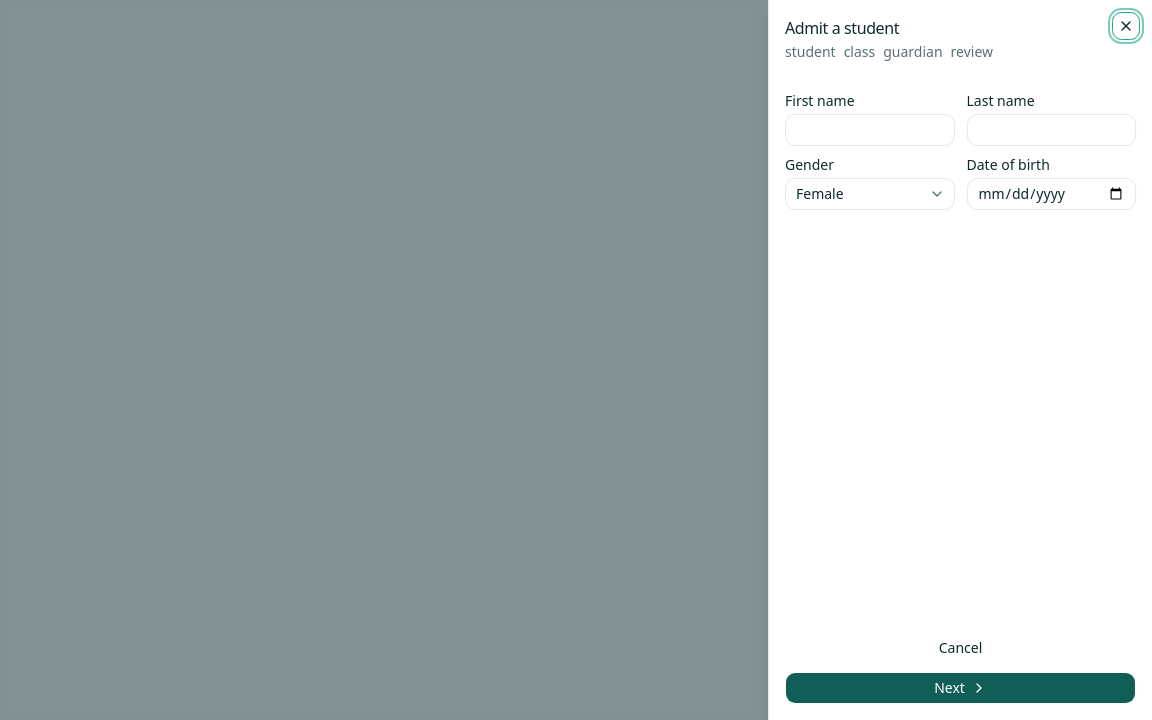
AdmitStudentSheet step 1 › refuses blanks with the server copy and does not advance
Expected: the field labelled "First name" is shown, top-left (785, 114), bottom-right (954, 146)
What coordinates should you click on to do the following:
click the button "Next"
I would click on:
 (960, 688)
Its box is top-left (785, 672), bottom-right (1136, 704).
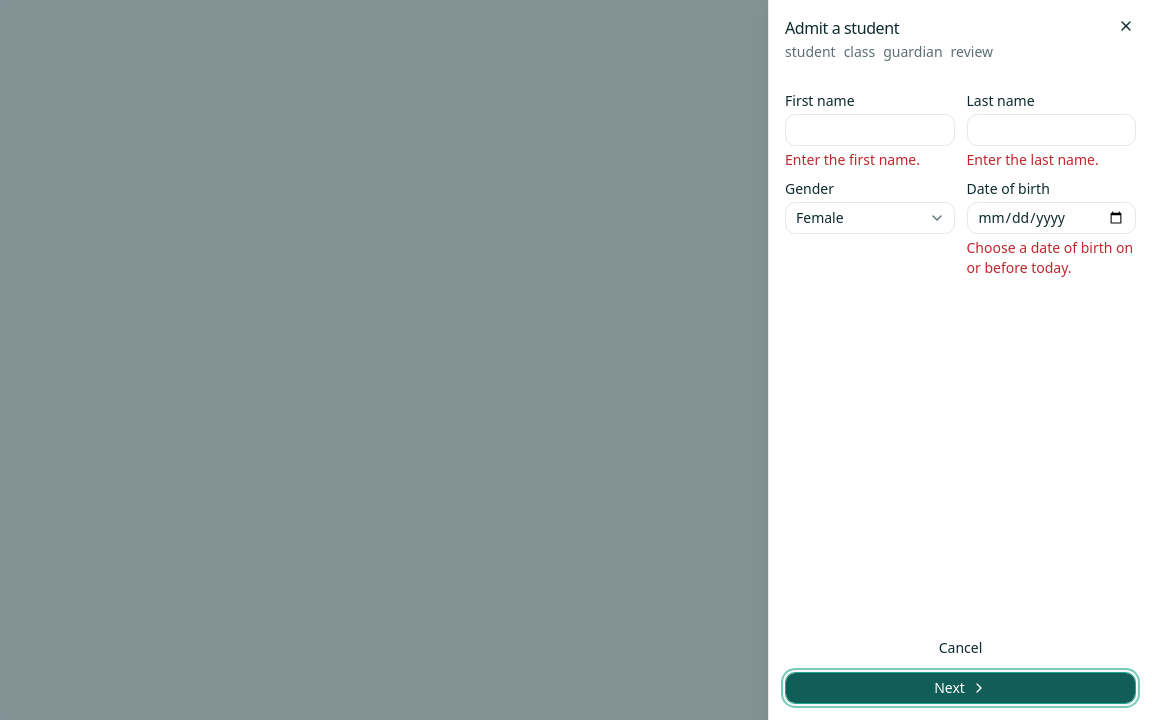
Expected: the text "Enter the first name." is shown, top-left (785, 150), bottom-right (920, 169)
Expected: the text "Enter the last name." is shown, top-left (966, 150), bottom-right (1099, 169)
Expected: the text "Choose a date of birth on or before today." is shown, top-left (966, 238), bottom-right (1136, 278)
